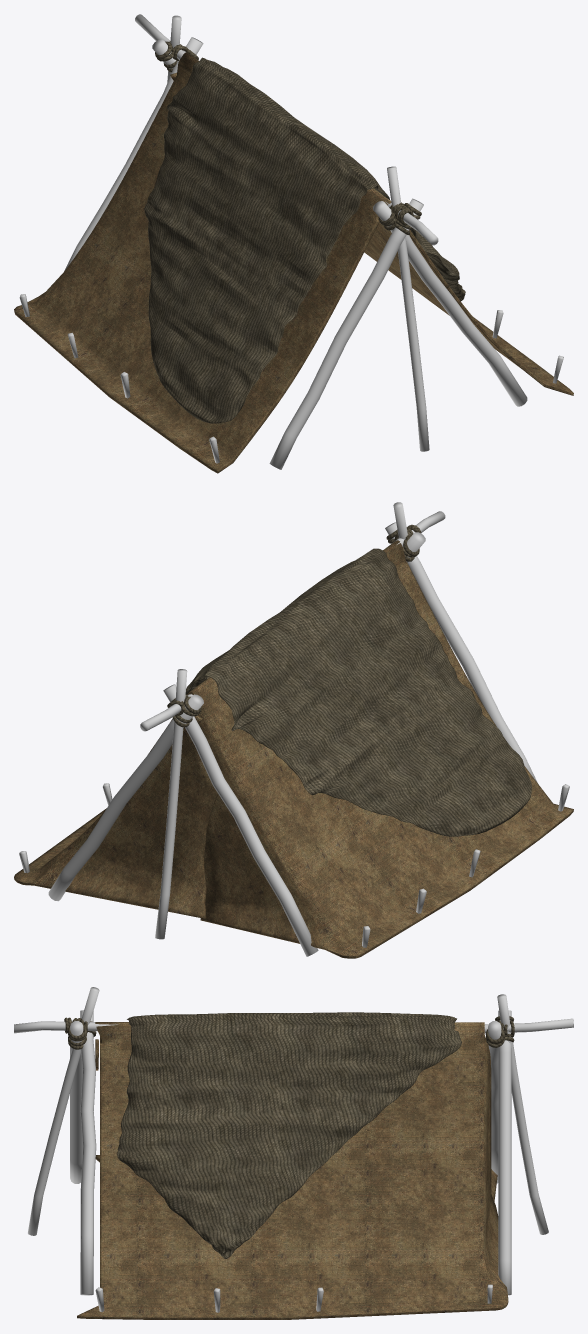
The model's file is highpoly_viking_tent_001.obj.
3 views of the same model, one above another, from view 1: azimuth 30°, elevation 25°; view 2: azimuth 150°, elevation 25°; view 3: azimuth 270°, elevation 25° (orthographic). The views are drawn at different scales.
Visible parts, largest first — view 1: Plane.001, Cylinder.024, Cylinder.006, Cylinder.007, Cylinder.001, Cylinder.004, BezierCircle.011, Cylinder.008; view 2: Cylinder.024, Plane.001, Cylinder.004, Cylinder.005, Cylinder.006, Cylinder.002, BezierCircle.011, Cylinder.008; view 3: Cylinder.024, Plane.001, Cylinder.007, Cylinder.005, Cylinder.001, Cylinder.002, Cylinder.006, Cylinder.008, Cylinder.004, BezierCircle.011.
Boxes of the visible parts, x1,y1,x2,y2 form: Plane.001: [144, 57, 465, 423]; Cylinder.024: [14, 52, 573, 473]; Cylinder.006: [269, 198, 423, 469]; Cylinder.007: [373, 201, 527, 406]; Cylinder.001: [387, 166, 429, 451]; Cylinder.004: [64, 37, 203, 271]; BezierCircle.011: [155, 41, 421, 234]; Cylinder.008: [135, 14, 438, 245]; Cylinder.024: [14, 540, 573, 958]; Plane.001: [185, 548, 531, 836]; Cylinder.004: [163, 684, 318, 956]; Cylinder.005: [48, 694, 203, 901]; Cylinder.006: [385, 522, 537, 782]; Cylinder.002: [155, 669, 187, 939]; BezierCircle.011: [167, 524, 421, 727]; Cylinder.008: [140, 511, 445, 731]; Cylinder.024: [77, 1022, 508, 1319]; Plane.001: [117, 1012, 461, 1258]; Cylinder.007: [80, 1010, 96, 1295]; Cylinder.005: [498, 1010, 511, 1295]; Cylinder.001: [28, 987, 99, 1235]; Cylinder.002: [497, 994, 548, 1234]; Cylinder.006: [70, 1021, 83, 1183]; Cylinder.008: [14, 1018, 573, 1033]; Cylinder.004: [488, 1021, 501, 1183]; BezierCircle.011: [64, 1016, 514, 1049].
Bounding box in the file's own units: 6.16 × 4.42 × 8.92.
